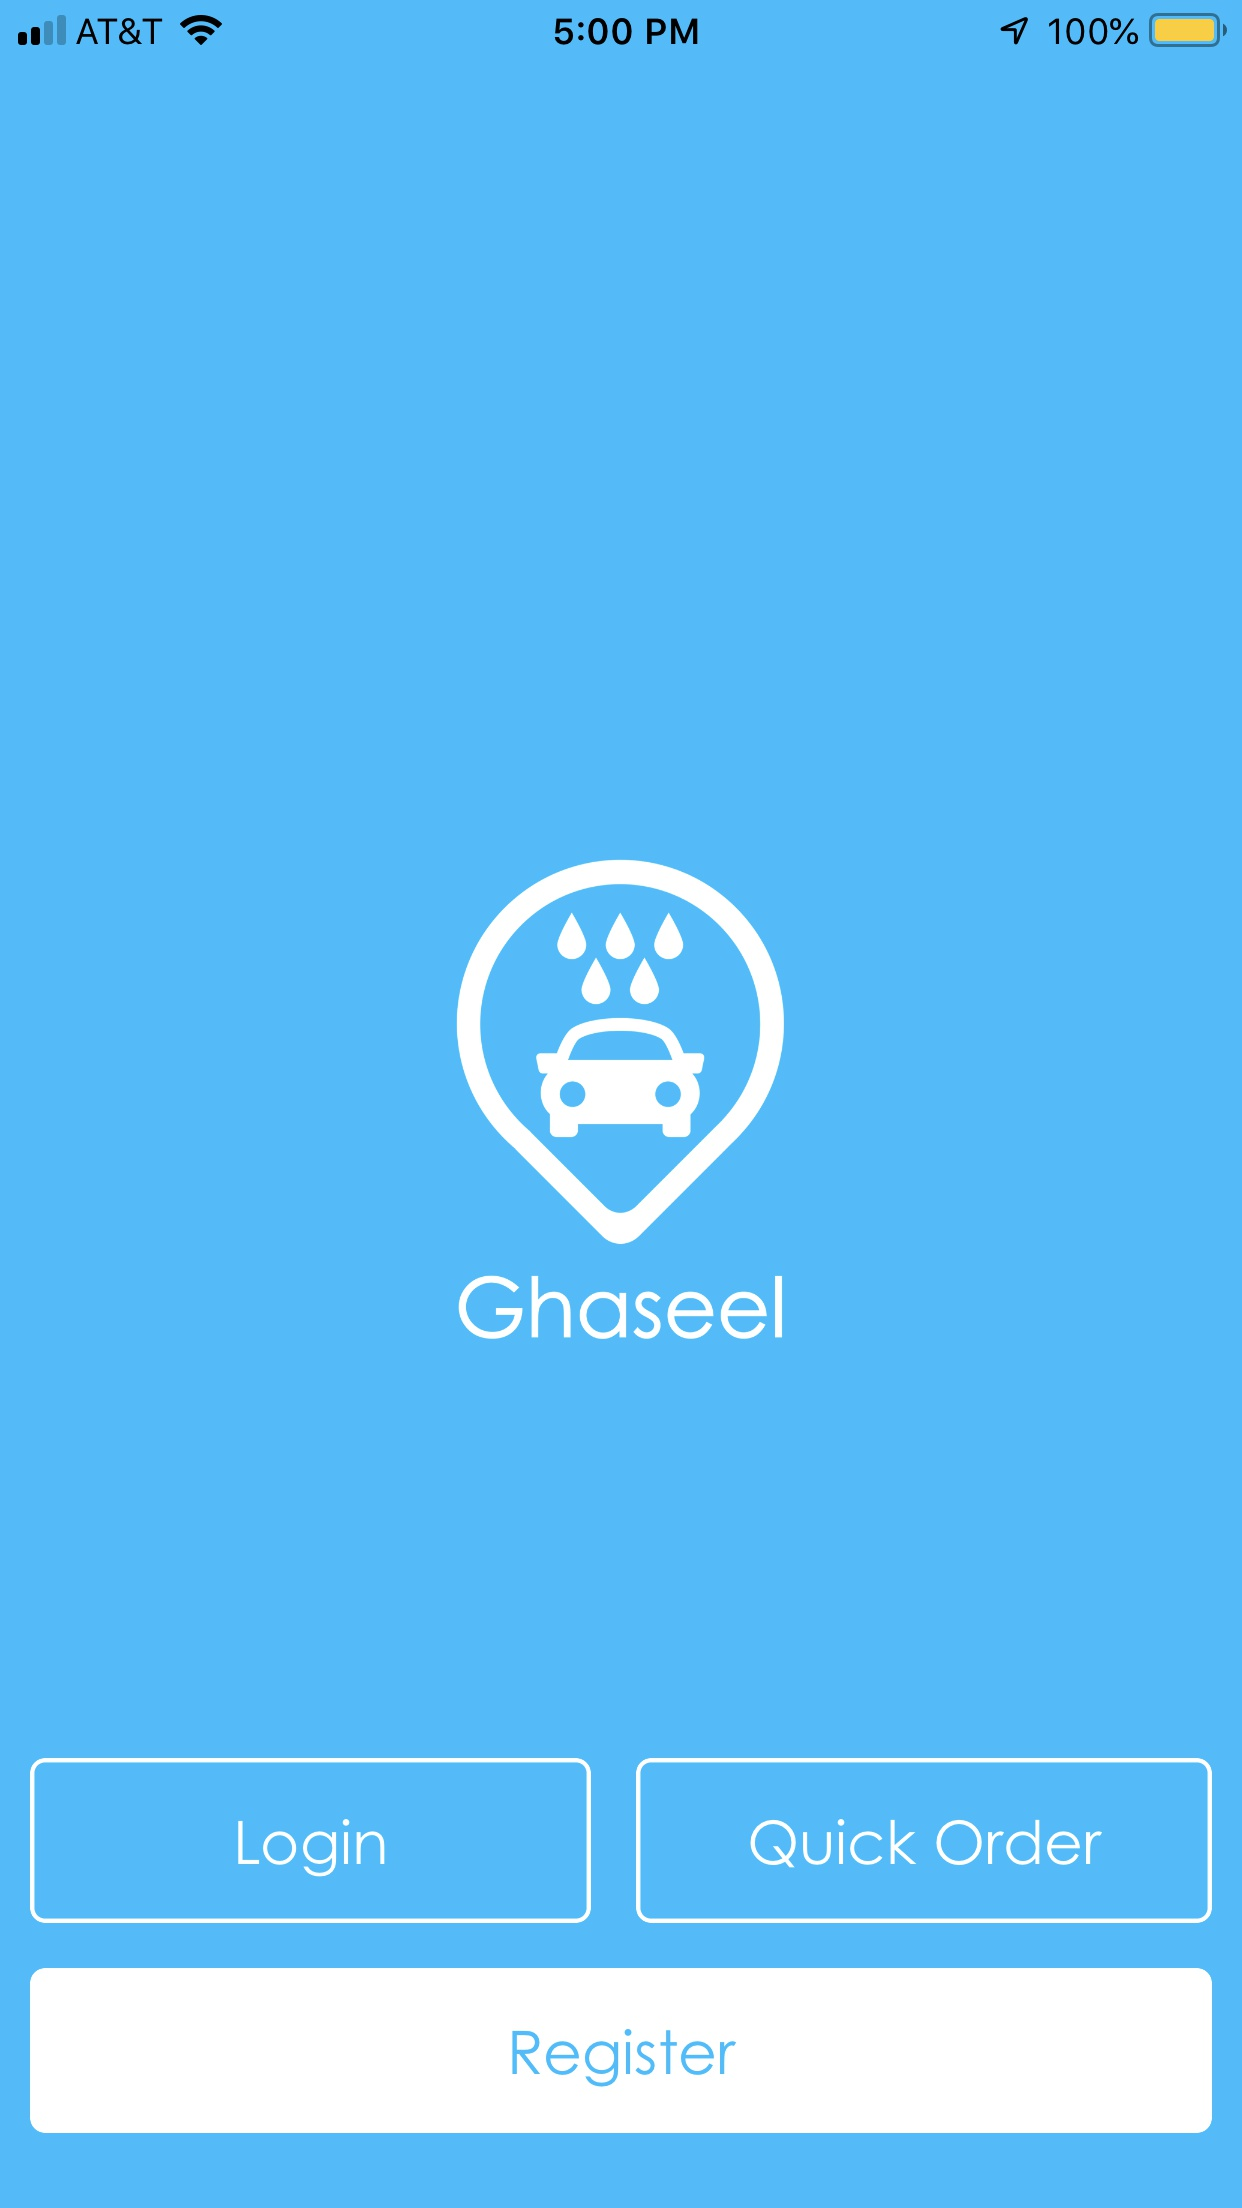Image: (456, 858, 786, 1248)
Text: (458, 1275, 783, 1341)
TextButton: (30, 1967, 1213, 2134), (635, 1758, 1213, 1924), (29, 1758, 591, 1924)
UpperTaskBar: (2, 2, 1242, 49)
